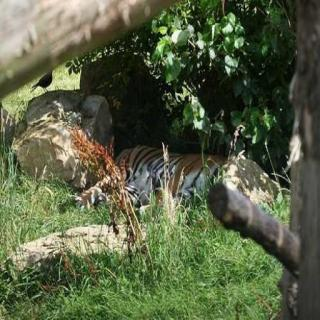Tiger: (107, 129, 219, 210)
